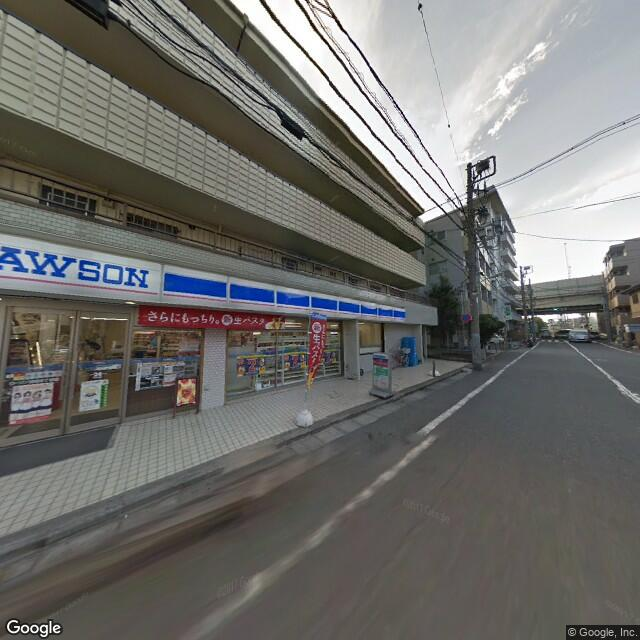lawson: (2, 227, 408, 326)
